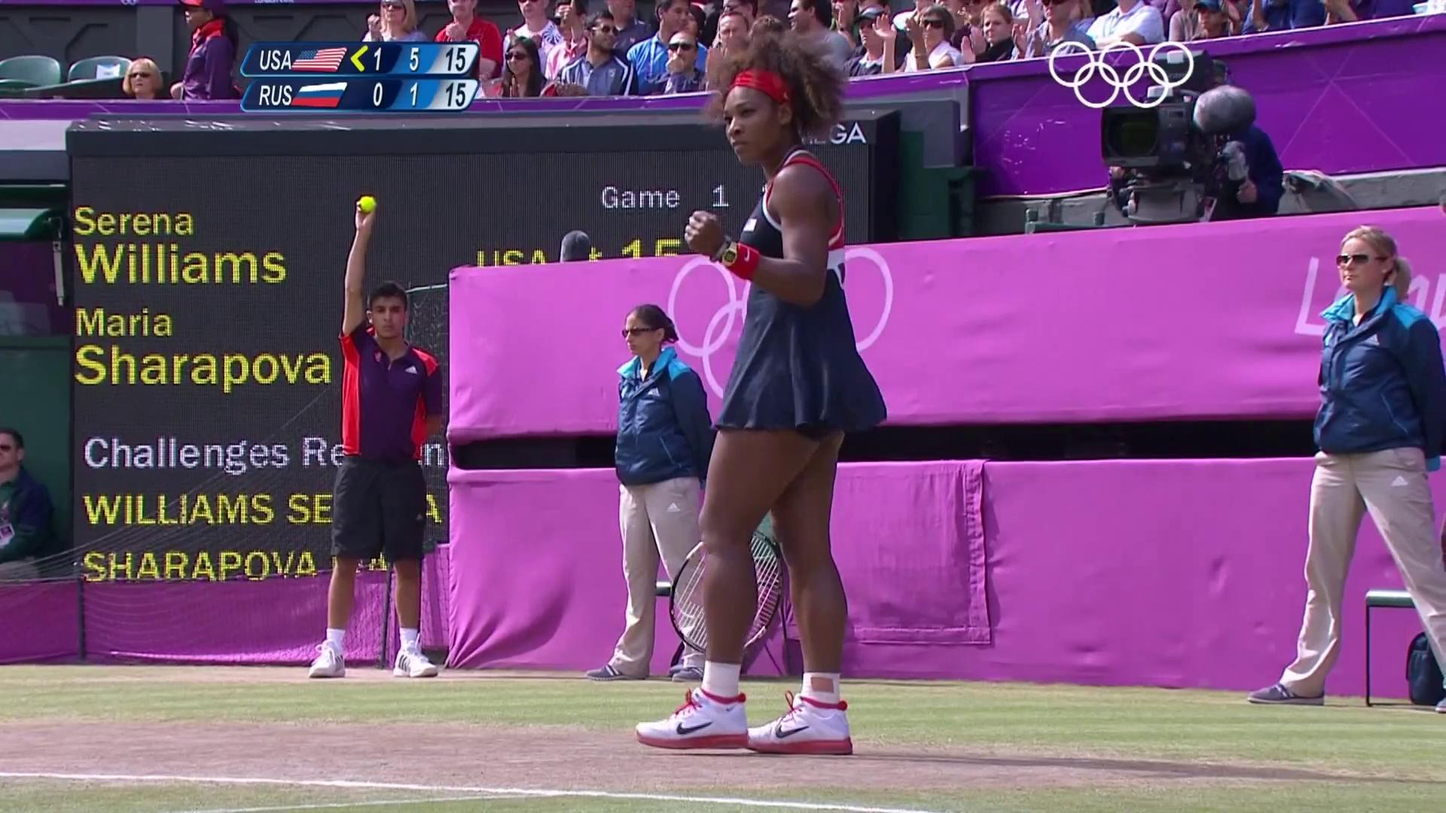victim: (629, 51, 886, 759), (1237, 222, 1446, 716), (304, 191, 450, 685), (584, 301, 725, 688)
